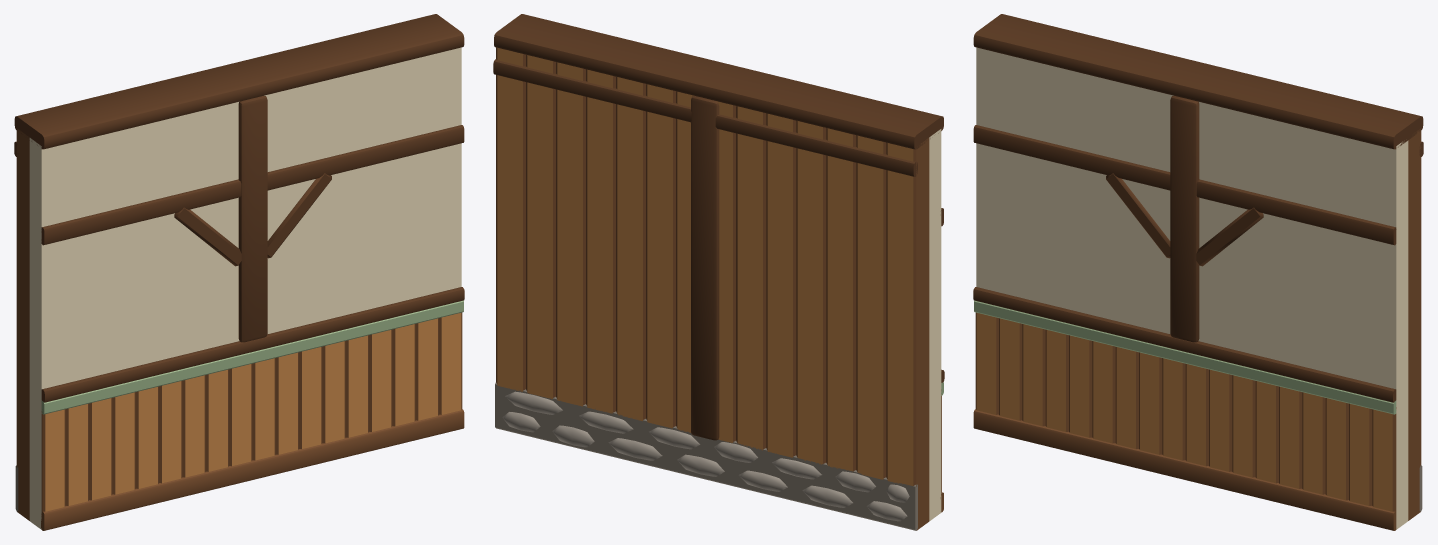
The model's file is ZoneKitWall.fbx.
3 renders of one model, left to right at view 1: azimuth 30°, elevation 25°; view 2: azimuth 150°, elevation 25°; view 3: azimuth 330°, elevation 25°, orthographic.
Visible parts, largest first — view 1: ZoneKitWall; view 2: ZoneKitWall; view 3: ZoneKitWall.
Part boxes in pixels (x1=…): ZoneKitWall: x1=14, y1=14, x2=464, y2=530; ZoneKitWall: x1=493, y1=14, x2=944, y2=530; ZoneKitWall: x1=973, y1=14, x2=1423, y2=530.
Bounding box in the file's own units: 3 × 2.7 × 0.39.
